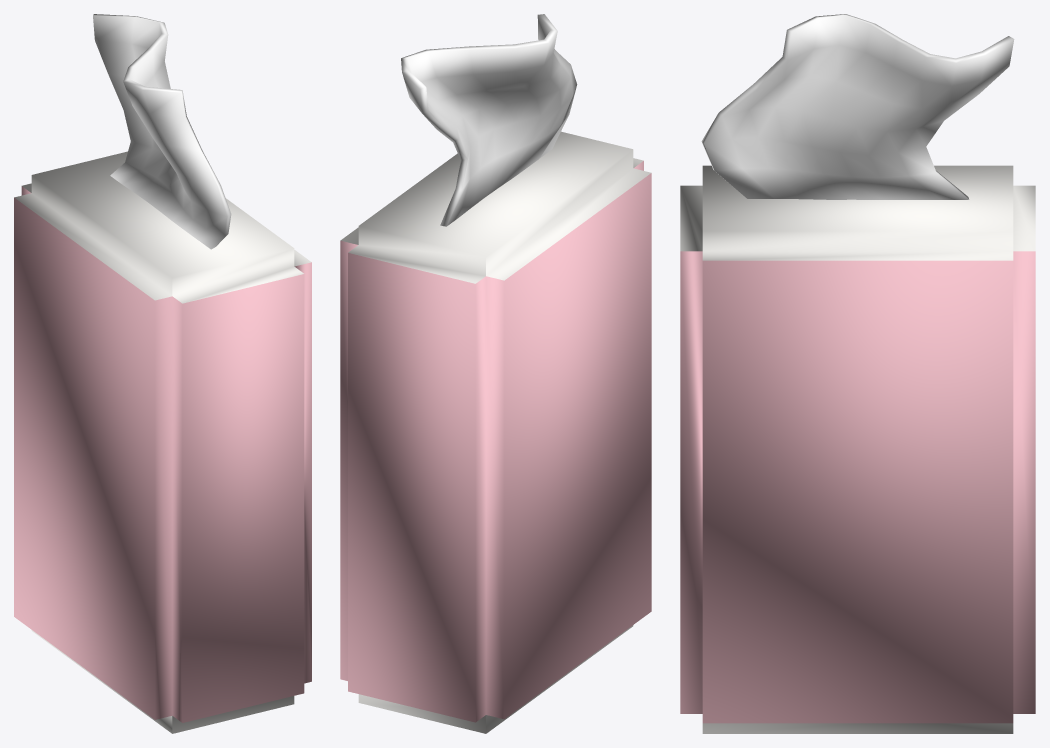
The model's file is TissueShield.fbx.
The picture shows the model from 3 angles, left to right: view 1: azimuth 30°, elevation 25°; view 2: azimuth 150°, elevation 25°; view 3: azimuth 270°, elevation 25°; orthographic projection. The views are drawn at different scales.
Visible parts, largest first — view 1: TissueShield; view 2: TissueShield; view 3: TissueShield.
Boxes of the visible parts, x1,y1,x2,y2 form: TissueShield: [14, 14, 311, 733]; TissueShield: [340, 14, 651, 733]; TissueShield: [680, 14, 1035, 733].
Size of the model in its own units: 0.108 by 0.3966 by 0.192.
